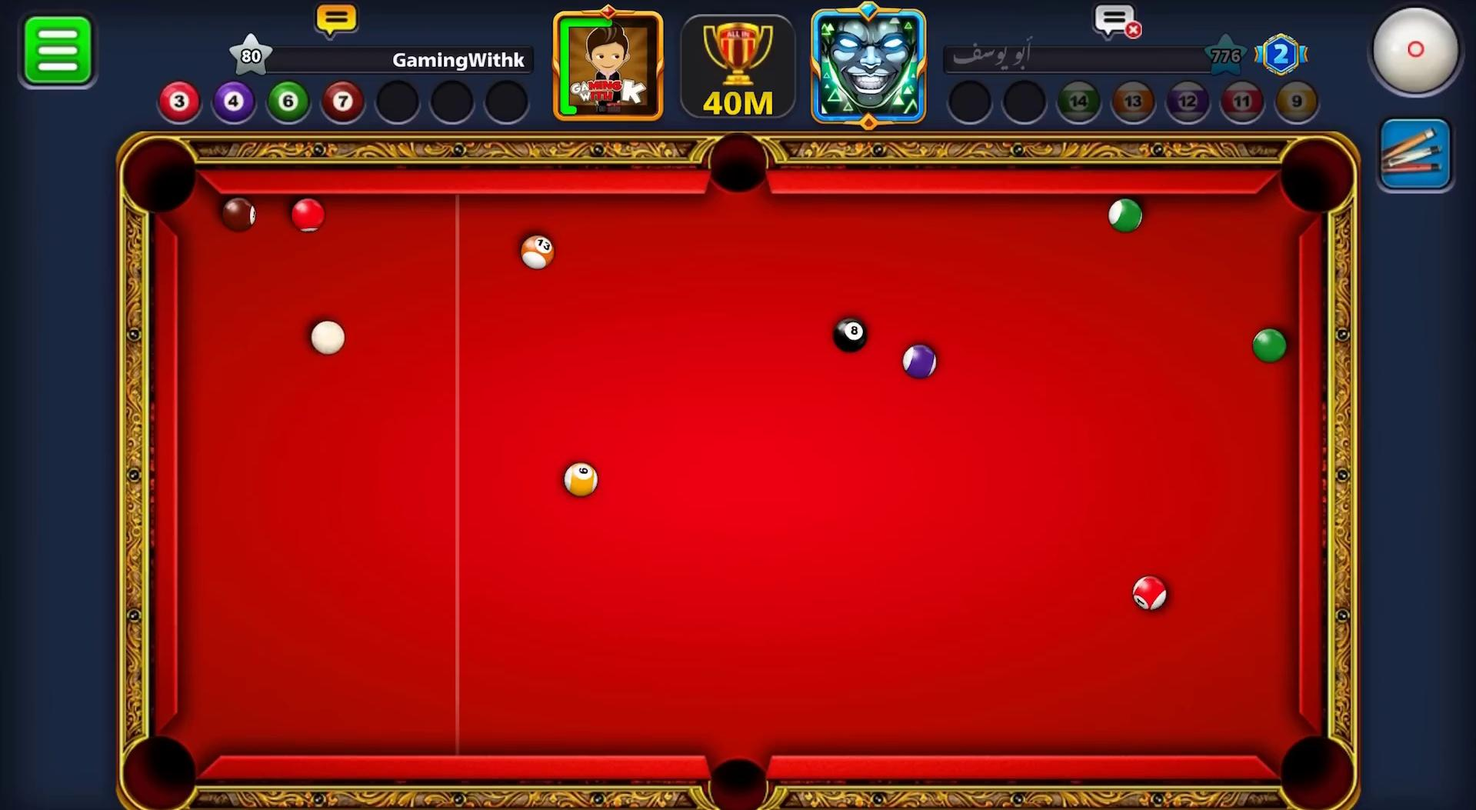Ball: (516, 232, 561, 275), (828, 312, 870, 356), (1126, 578, 1171, 612), (289, 196, 327, 234), (902, 340, 938, 379), (221, 196, 257, 233), (563, 461, 599, 497), (1108, 197, 1142, 232), (1252, 328, 1286, 363)
Hole: (1258, 714, 1371, 810), (696, 743, 785, 810), (1277, 138, 1352, 215), (121, 137, 197, 211), (122, 734, 199, 807), (708, 133, 768, 192)
Play_Area: (180, 195, 1299, 756)
Spin: (1360, 0, 1476, 104)
White: (301, 316, 349, 360)
